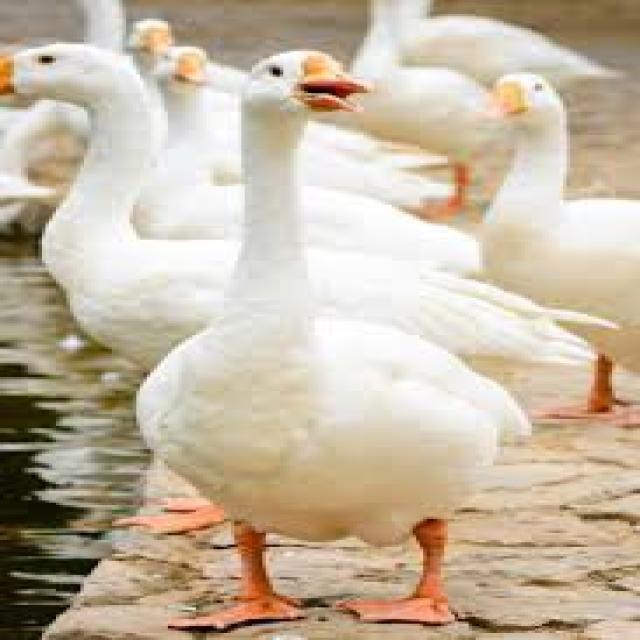Goose: (126, 51, 521, 640)
